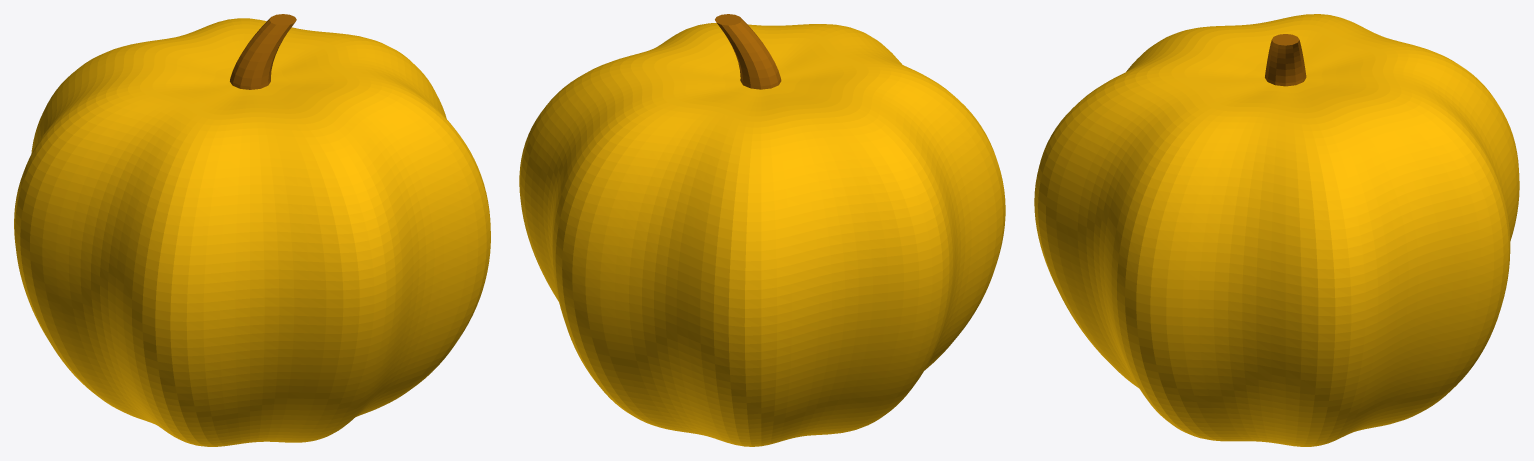
Rendered from lumpy.glb.
3 views of the same model, side by side, from view 1: azimuth 30°, elevation 25°; view 2: azimuth 150°, elevation 25°; view 3: azimuth 270°, elevation 25° (orthographic).
Visible parts, largest first — view 1: body, lid, stem; view 2: body, lid, stem; view 3: body, lid, stem.
Part boxes in pixels (<box>): body: <box>14,55,490,446</box>; lid: <box>54,18,443,188</box>; stem: <box>230,14,296,89</box>; body: <box>519,49,1005,446</box>; lid: <box>566,23,953,193</box>; stem: <box>715,14,781,89</box>; body: <box>1034,50,1519,446</box>; lid: <box>1079,14,1469,191</box>; stem: <box>1265,34,1306,86</box>.
Bounding box in the file's own units: 2.29 × 1.96 × 2.27.
